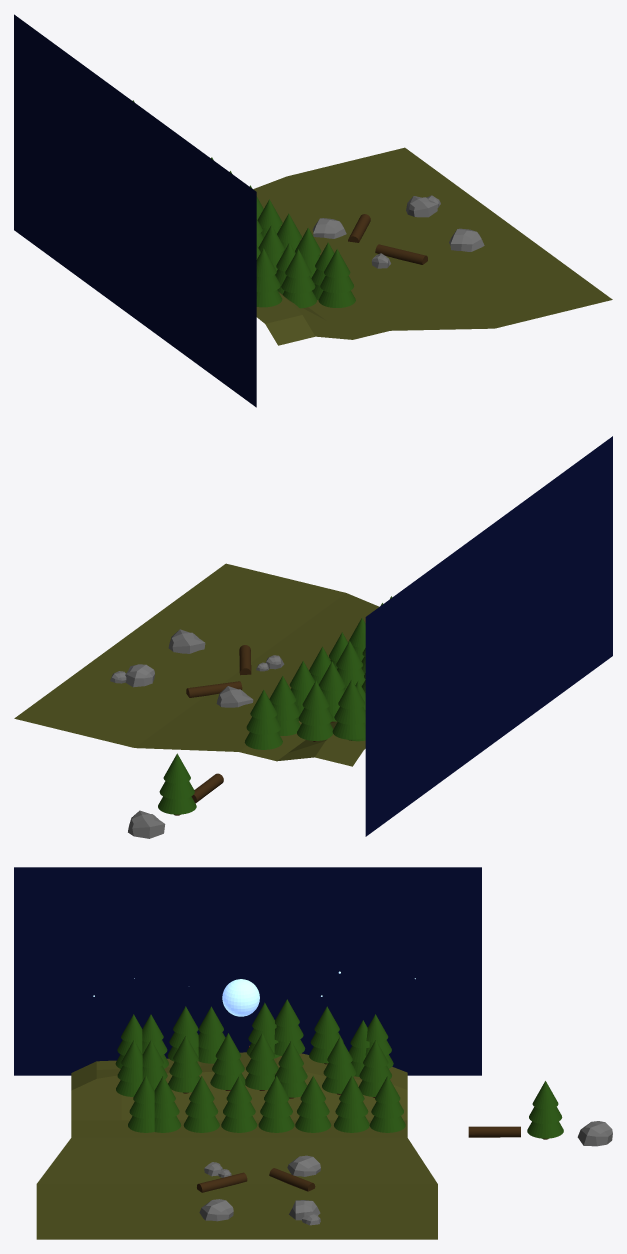
The model's file is campfire_background_1.fbx.
3 renders of one model, top to bottom at view 1: azimuth 30°, elevation 25°; view 2: azimuth 150°, elevation 25°; view 3: azimuth 270°, elevation 25°, orthographic. The views are drawn at different scales.
Visible parts, largest first — view 1: Plane.001, Plane, LEAVES.021, LEAVES.022, LEAVES.020, Rock.004, LEAVES.015, LEAVES.016, Rock.006, LEAVES.014, Rock.001, Cylinder (+1 smaller); view 2: Plane.001, Plane, LEAVES, LEAVES.024, LEAVES.025, LEAVES.023, LEAVES.012, LEAVES.013, LEAVES.018, Rock.007, LEAVES.011, Rock.004 (+2 smaller); view 3: Plane.001, Plane, LEAVES, LEAVES.006, LEAVES.010, LEAVES.012, LEAVES.015, LEAVES.011, LEAVES.024, LEAVES.016, LEAVES.017, LEAVES.001 (+22 smaller).
Boxes of the visible parts, x1,y1,x2,y2 form: Plane.001: (14, 14, 256, 407); Plane: (253, 147, 612, 345); LEAVES.021: (318, 249, 355, 307); LEAVES.022: (281, 249, 316, 308); LEAVES.020: (256, 248, 282, 307); Rock.004: (449, 228, 484, 251); LEAVES.015: (295, 228, 321, 278); LEAVES.016: (258, 225, 284, 270); Rock.006: (312, 218, 346, 238); LEAVES.014: (311, 242, 334, 300); Rock.001: (406, 196, 438, 217); Cylinder: (375, 244, 427, 264); Plane.001: (365, 436, 612, 836); Plane: (14, 563, 379, 766); LEAVES: (158, 753, 196, 814); LEAVES.024: (244, 689, 282, 749); LEAVES.025: (297, 681, 333, 740); LEAVES.023: (332, 679, 365, 739); LEAVES.012: (269, 676, 300, 735); LEAVES.013: (336, 640, 365, 690); LEAVES.018: (319, 661, 345, 721); Rock.007: (128, 810, 165, 838); LEAVES.011: (289, 661, 314, 720); Rock.004: (168, 629, 205, 653); Plane.001: (14, 867, 481, 1075); Plane: (36, 1052, 437, 1239); LEAVES: (527, 1081, 563, 1138); LEAVES.006: (221, 1076, 257, 1132); LEAVES.010: (258, 1076, 294, 1132); LEAVES.012: (334, 1076, 369, 1132); LEAVES.015: (183, 1076, 219, 1132); LEAVES.011: (295, 1076, 331, 1132); LEAVES.024: (369, 1076, 405, 1132); LEAVES.016: (168, 1035, 202, 1092); LEAVES.017: (245, 1033, 278, 1089); LEAVES.001: (210, 1033, 245, 1089).
Size of the model in its own units: 7539 by 4224 by 11009.
